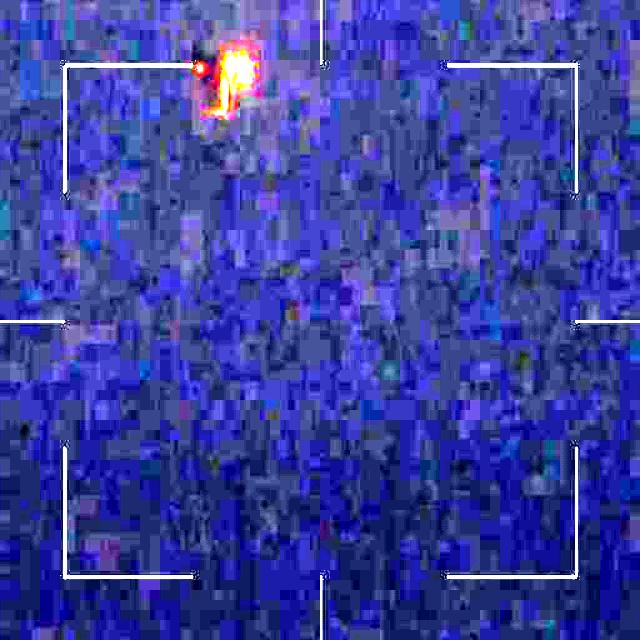bird: (184, 50, 256, 135)
